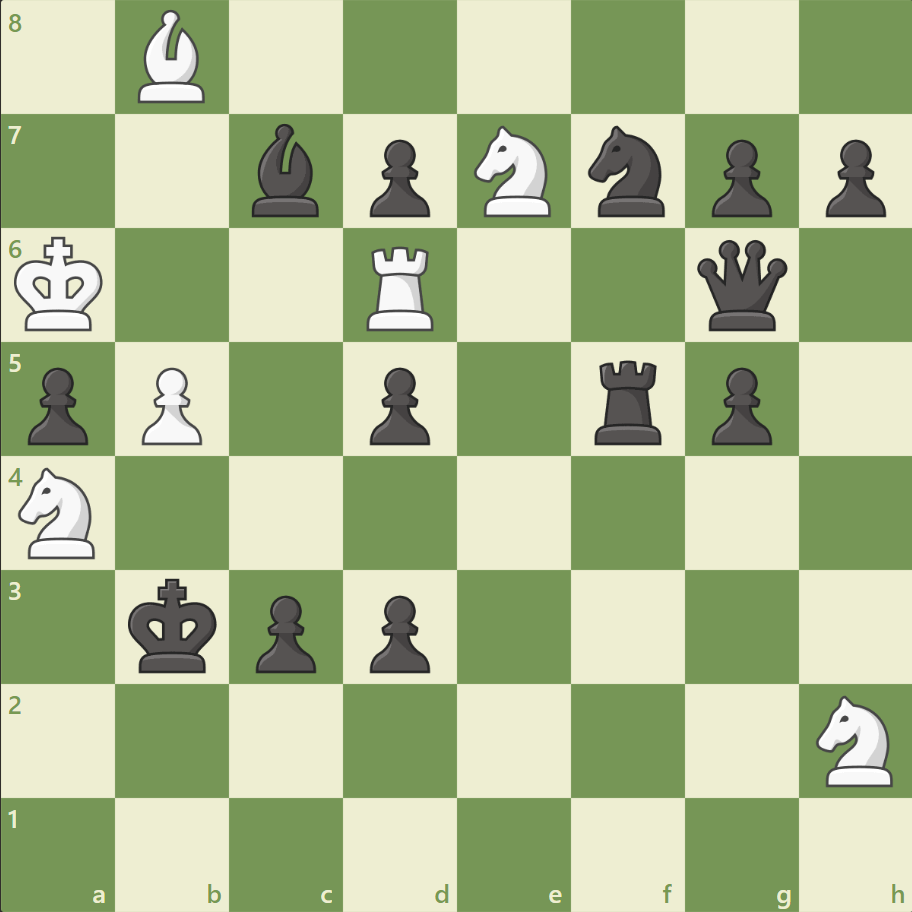B: (131, 6, 215, 109)
K: (11, 231, 111, 339)
N: (11, 461, 108, 564), (806, 688, 903, 791), (465, 121, 562, 223)
P: (133, 359, 208, 450)
R: (360, 239, 442, 336)
b: (244, 120, 328, 222)
k: (124, 571, 224, 679)
n: (579, 121, 676, 223)
p: (701, 132, 776, 223), (20, 359, 95, 450), (701, 359, 776, 450), (247, 586, 322, 677), (361, 132, 435, 223), (815, 132, 889, 223), (361, 359, 435, 450), (361, 586, 435, 677)
q: (691, 236, 790, 335)
r: (587, 352, 670, 449)
